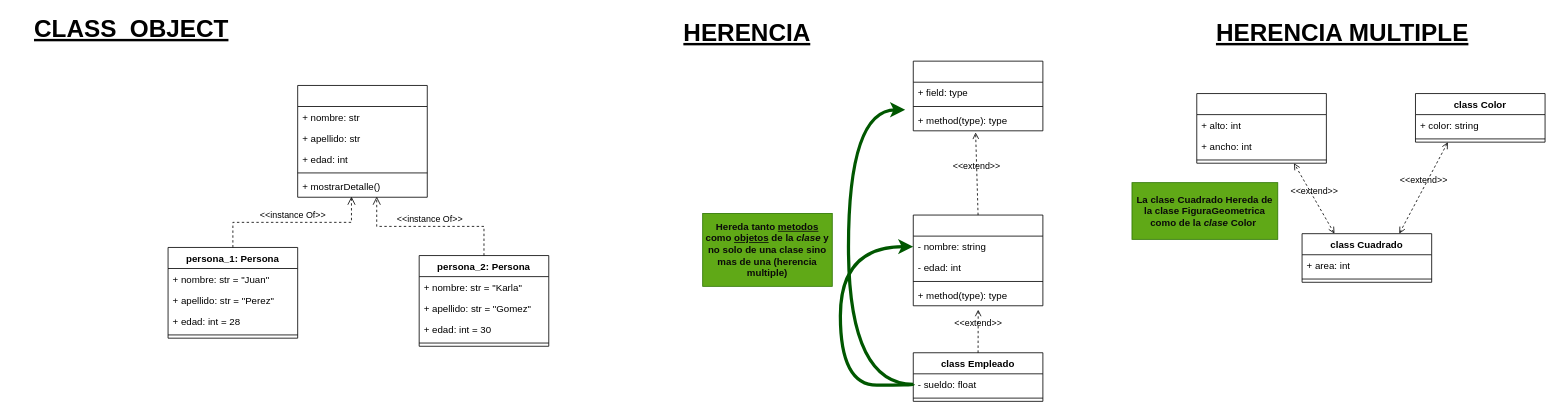
This 1559x416 diagram has some shape labels left out. The box of each missing label's shape, as (x1, y1, x2, y2) in pixels:
class FiguraGeometrica: (1196, 93, 1326, 163)
class Object: (912, 60, 1043, 131)
class Persona: (912, 214, 1043, 306)
Persona: (297, 85, 427, 197)
